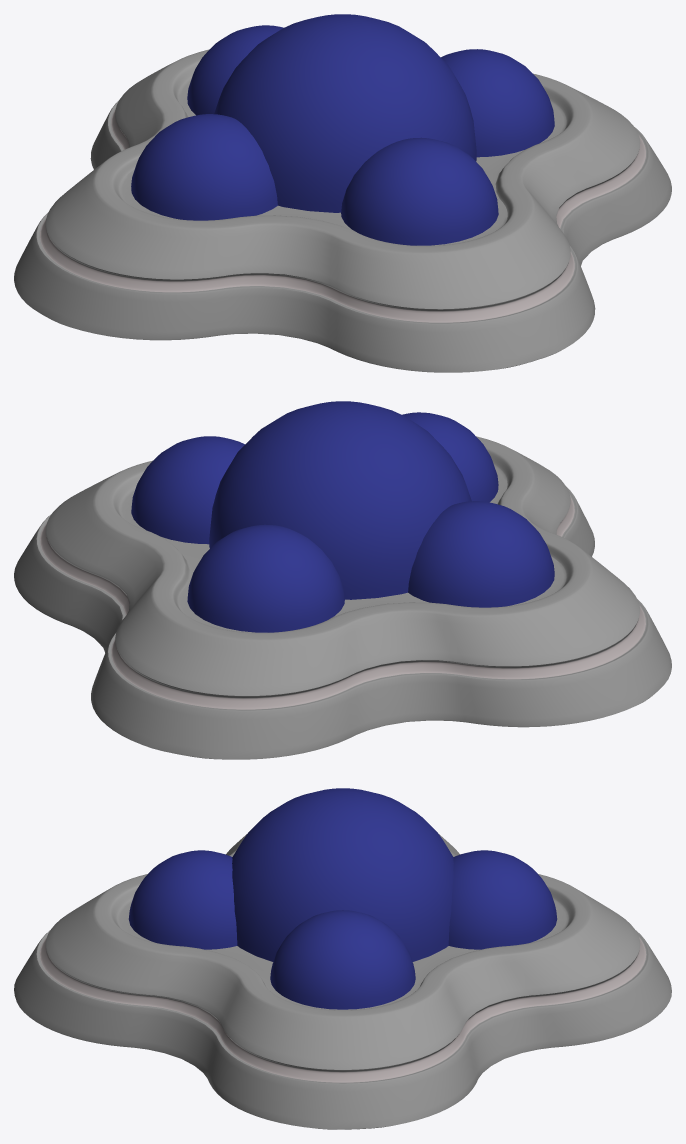
The model's file is LockAnchor.fbx.
3 views of the same model, one above another, from view 1: azimuth 30°, elevation 25°; view 2: azimuth 150°, elevation 25°; view 3: azimuth 270°, elevation 25° (orthographic). The views are drawn at different scales.
Parts seen in each view (by area): view 1: Anchor.base, Anchor.function.lock; view 2: Anchor.base, Anchor.function.lock; view 3: Anchor.base, Anchor.function.lock.
Part boxes in pixels (x1,y1,x2,y2): Anchor.base: (14, 49, 671, 372); Anchor.function.lock: (131, 14, 554, 245); Anchor.base: (14, 436, 671, 759); Anchor.function.lock: (131, 401, 554, 632); Anchor.base: (14, 834, 671, 1129); Anchor.function.lock: (128, 788, 557, 1009).
Bounding box in the file's own units: 160 × 160 × 51.37.
